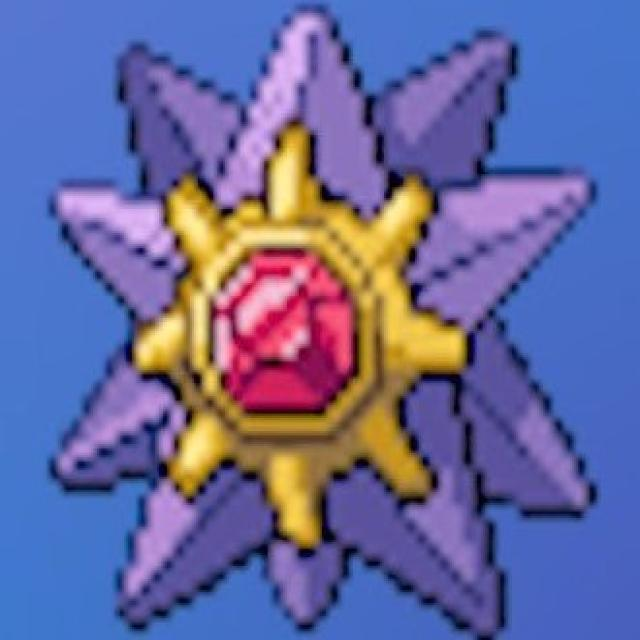Starmie: (84, 0, 584, 592)
